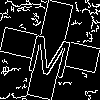M: (25, 25, 76, 79)
